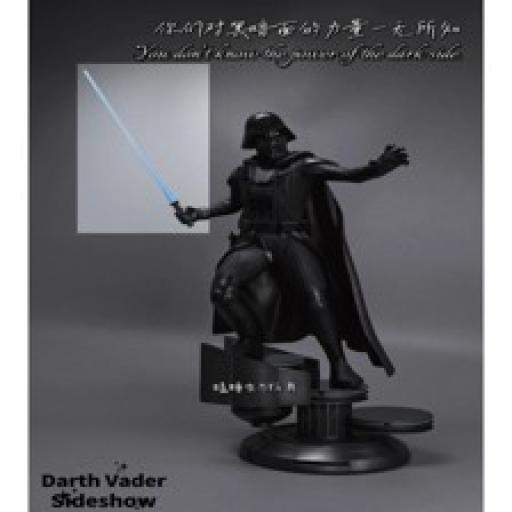human: (174, 102, 408, 392)
lightsaber: (80, 69, 194, 231)
